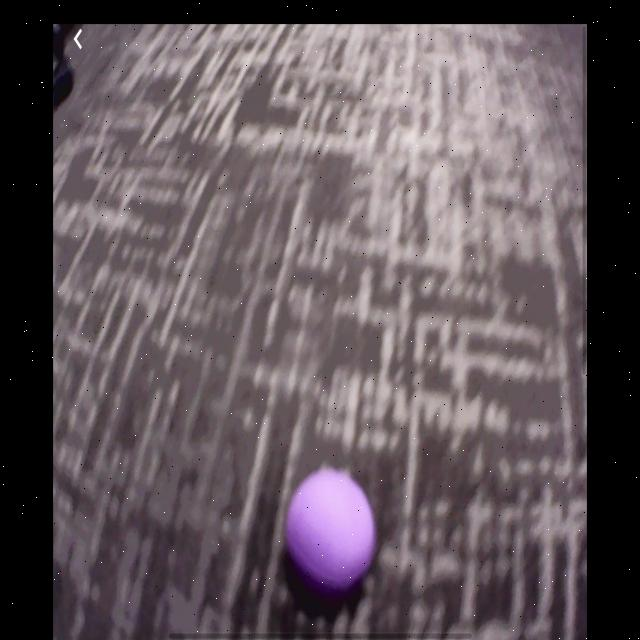ball: (284, 466, 378, 599)
